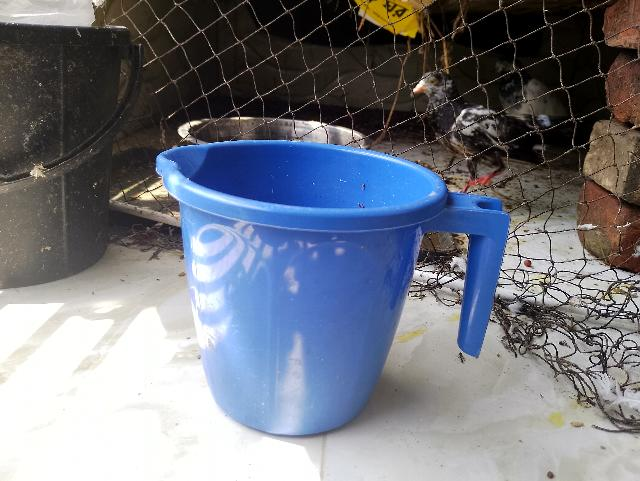hardplastic: (171, 141, 496, 442), (5, 20, 118, 282)
